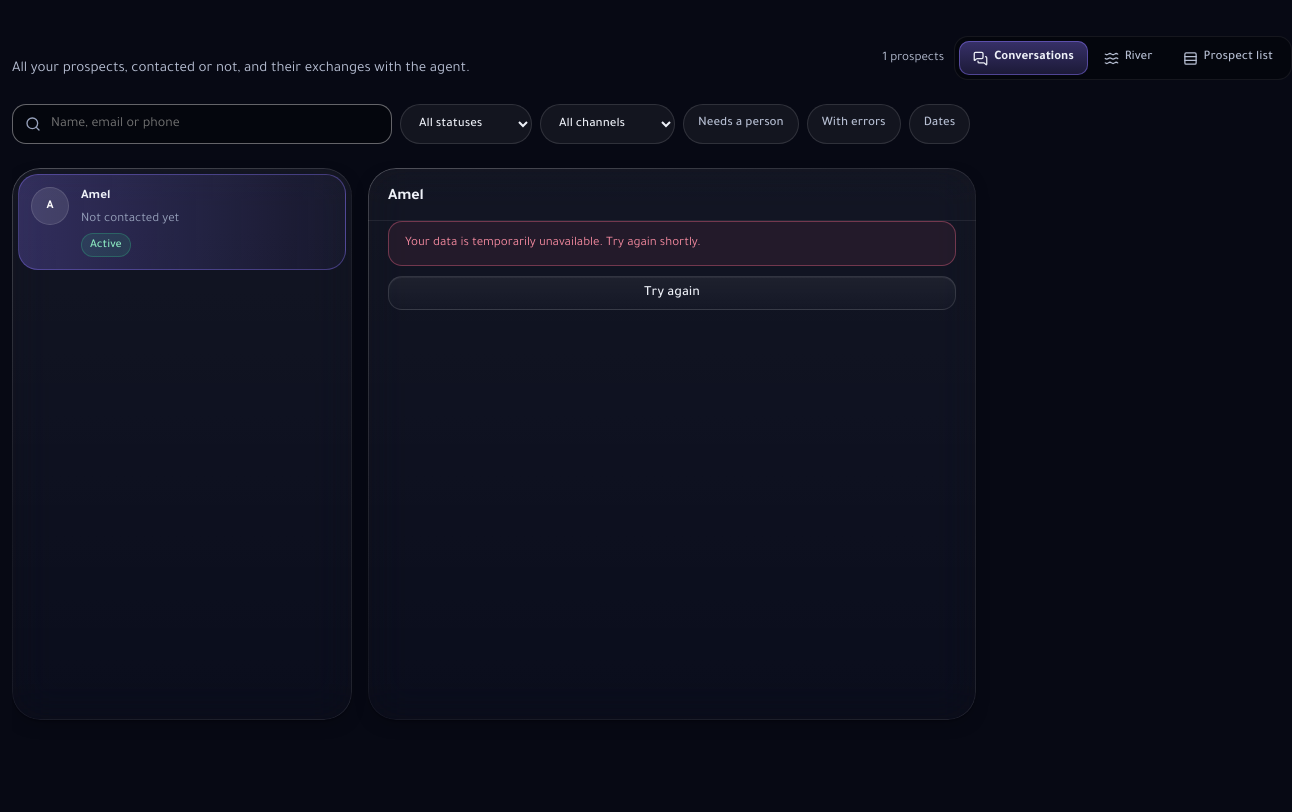
Scenario: Conversations (live) › shows the error and retries when the thread cannot be read
Expected: the message shows "temporarily unavailable", [405, 237, 701, 250]
Click the button "Try again" at (672, 293), box [388, 276, 956, 310]
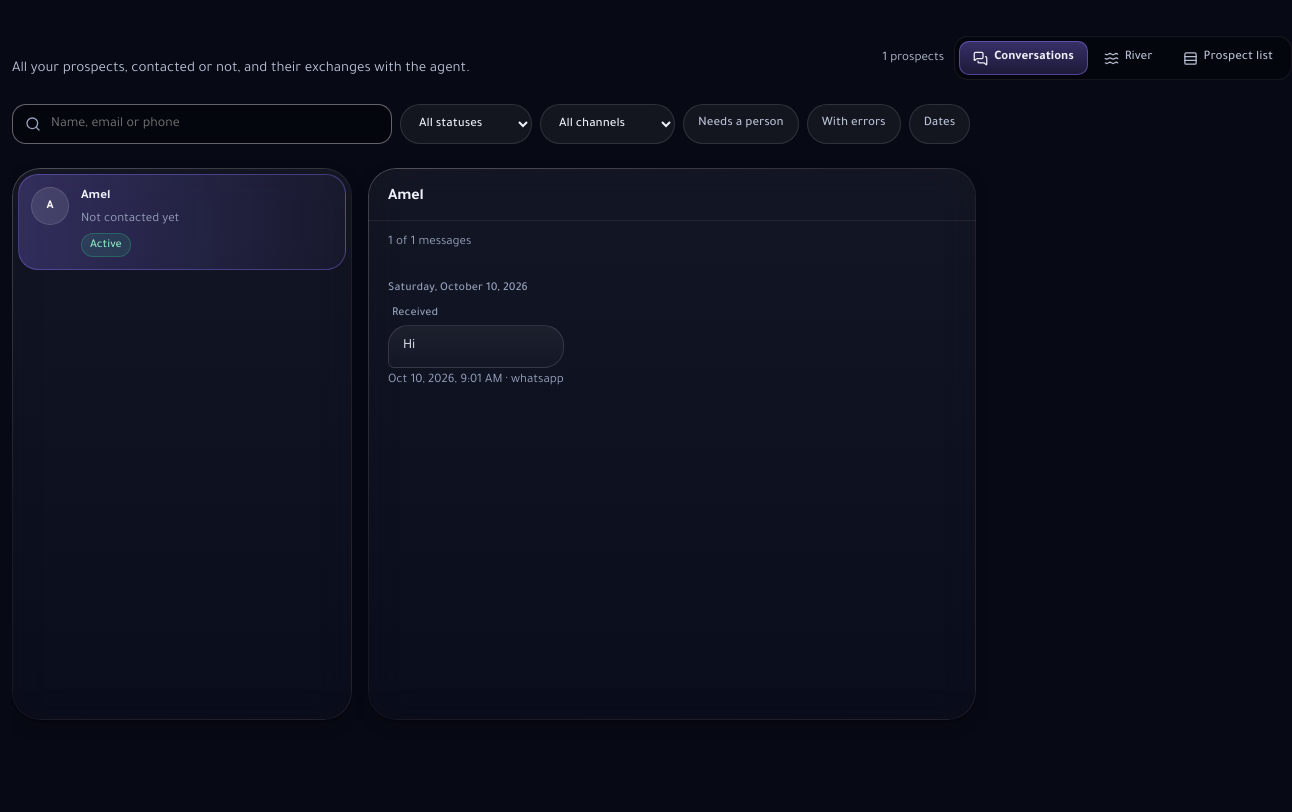
Now the list item with test id "message-m1" is shown, box [388, 307, 564, 387]
